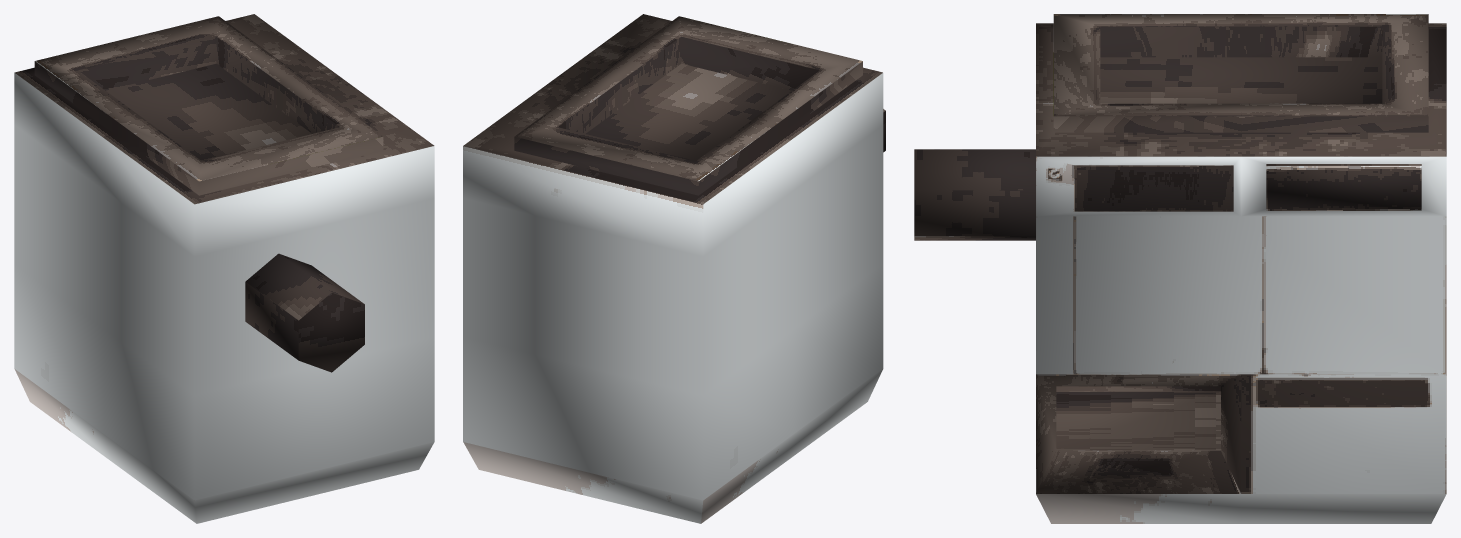
The model's file is hellaPs1.glb.
The picture shows the model from 3 angles, left to right: view 1: azimuth 30°, elevation 25°; view 2: azimuth 150°, elevation 25°; view 3: azimuth 270°, elevation 25°; orthographic projection. The views are drawn at different scales.
Parts seen in each view (by area): view 1: hellaPs1; view 2: hellaPs1; view 3: hellaPs1.
Boxes of the visible parts, <box> form: hellaPs1: <box>14,14,434,523</box>; hellaPs1: <box>463,14,885,523</box>; hellaPs1: <box>914,14,1446,523</box>.
Bounding box in the file's own units: 2.42 × 3.23 × 4.01.
1 material, 1 textured.
